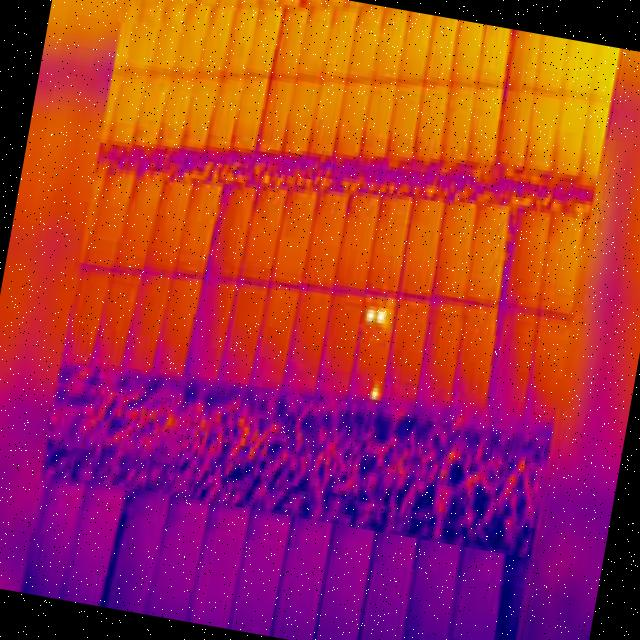Hotspot: (369, 387, 381, 400), (366, 308, 376, 322), (376, 308, 384, 324)
